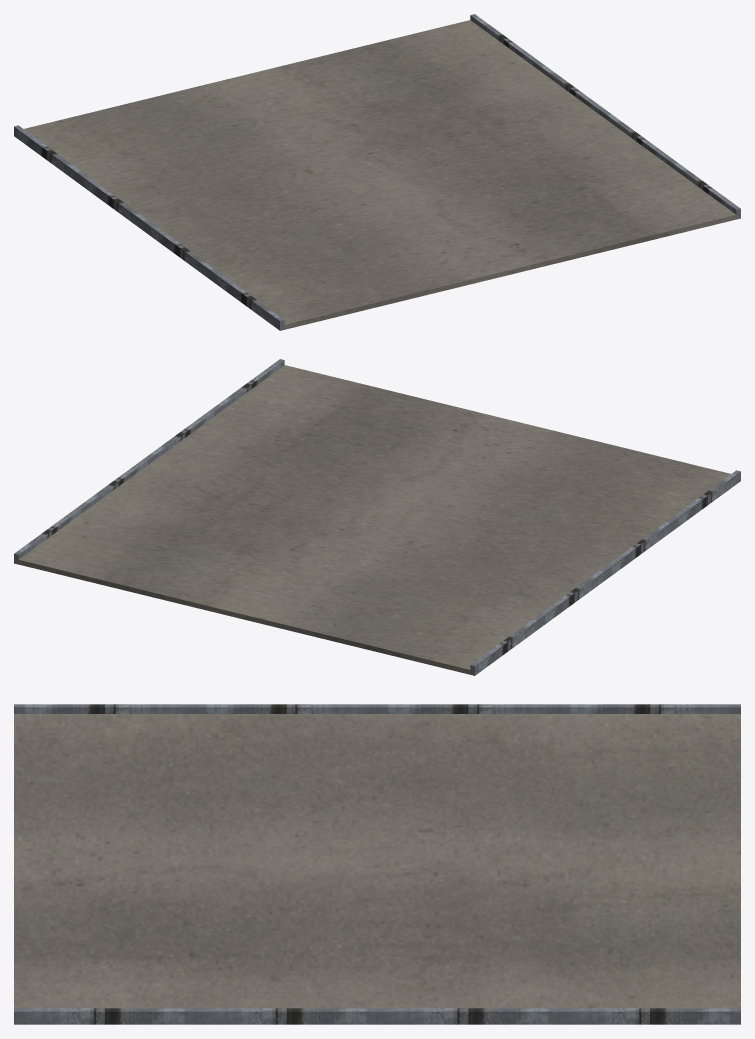
The model's file is Urban_Road3StraightSmallSides_Model.fbx.
3 views of the same model, one above another, from view 1: azimuth 30°, elevation 25°; view 2: azimuth 150°, elevation 25°; view 3: azimuth 270°, elevation 25° (orthographic). The views are drawn at different scales.
Parts seen in each view (by area): view 1: Urban_Road3StraightSmallSides_Mesh; view 2: Urban_Road3StraightSmallSides_Mesh; view 3: Urban_Road3StraightSmallSides_Mesh.
Part boxes in pixels (<box>): Urban_Road3StraightSmallSides_Mesh: <box>14,14,740,330</box>; Urban_Road3StraightSmallSides_Mesh: <box>14,359,740,675</box>; Urban_Road3StraightSmallSides_Mesh: <box>14,704,740,1024</box>.
Bounding box in the file's own units: 16 × 0.32 × 16.
